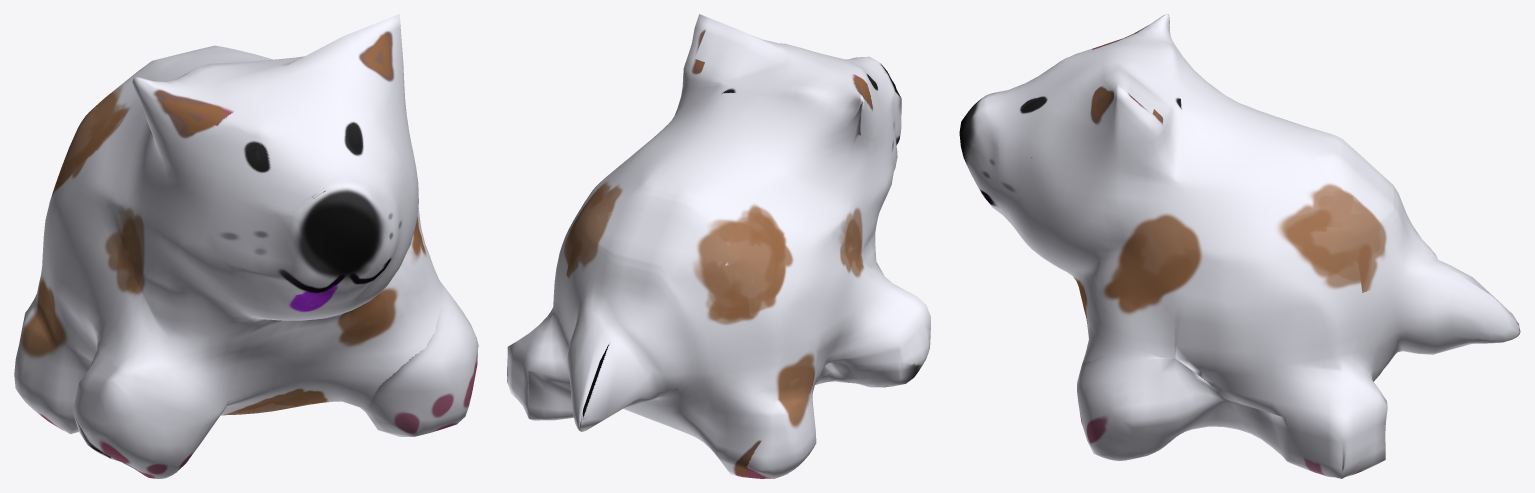
Rendered from FAkeDog.fbx.
3 renders of one model, left to right at view 1: azimuth 30°, elevation 25°; view 2: azimuth 150°, elevation 25°; view 3: azimuth 270°, elevation 25°, orthographic. The views are drawn at different scales.
Visible parts, largest first — view 1: Mball.010; view 2: Mball.010; view 3: Mball.010.
Part boxes in pixels (left/top/right/bottom): Mball.010: left=14, top=14, right=478, bottom=478; Mball.010: left=507, top=14, right=930, bottom=478; Mball.010: left=959, top=14, right=1520, bottom=478.
Bounding box in the file's own units: 574 × 591 × 799.
Materials: 1 (1 with a texture image).
